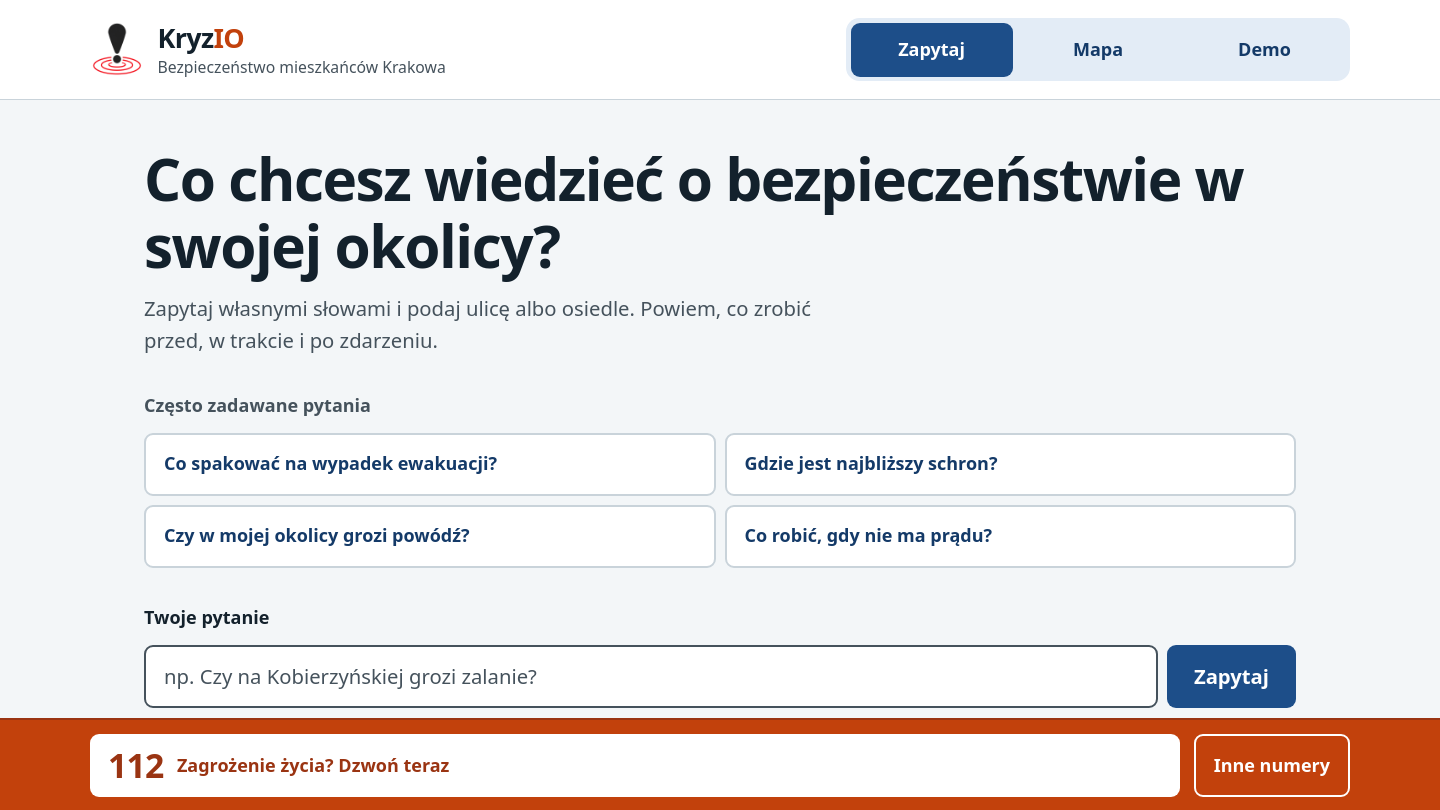
Test: App tabs › shows the demo tab marked as a presentation when demo mode is on
The image size is (1440, 810).
What coordinates should you click on to do the following:
click the tab "Demo"
I would click on:
 (1264, 50)
Its box is x1=1184 y1=22 x2=1346 y2=76.
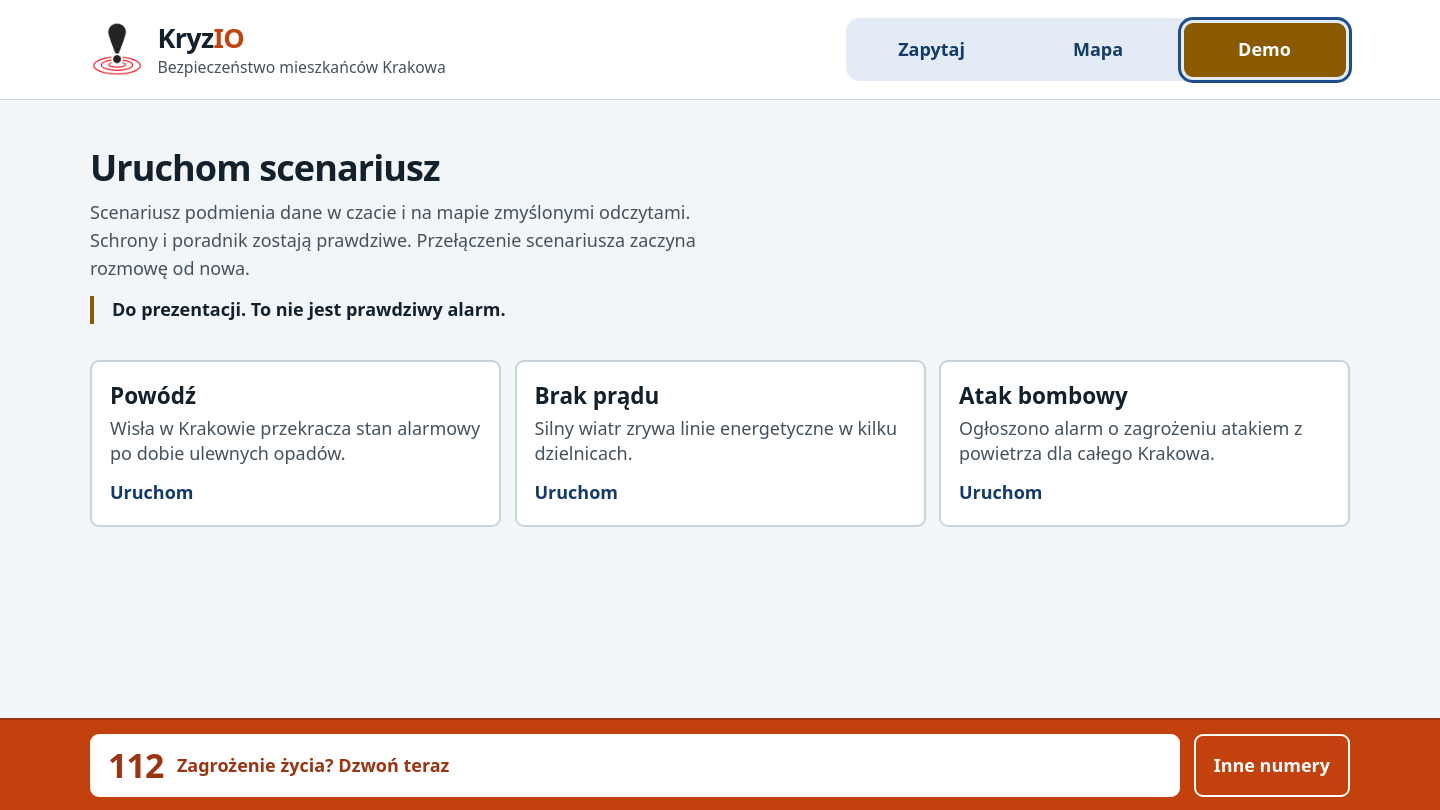
Check: the heading "Uruchom scenariusz" is shown, box x1=90 y1=143 x2=440 y2=192
Check: the text "Do prezentacji. To nie jest prawdziwy alarm." is shown, box x1=90 y1=296 x2=708 y2=324
